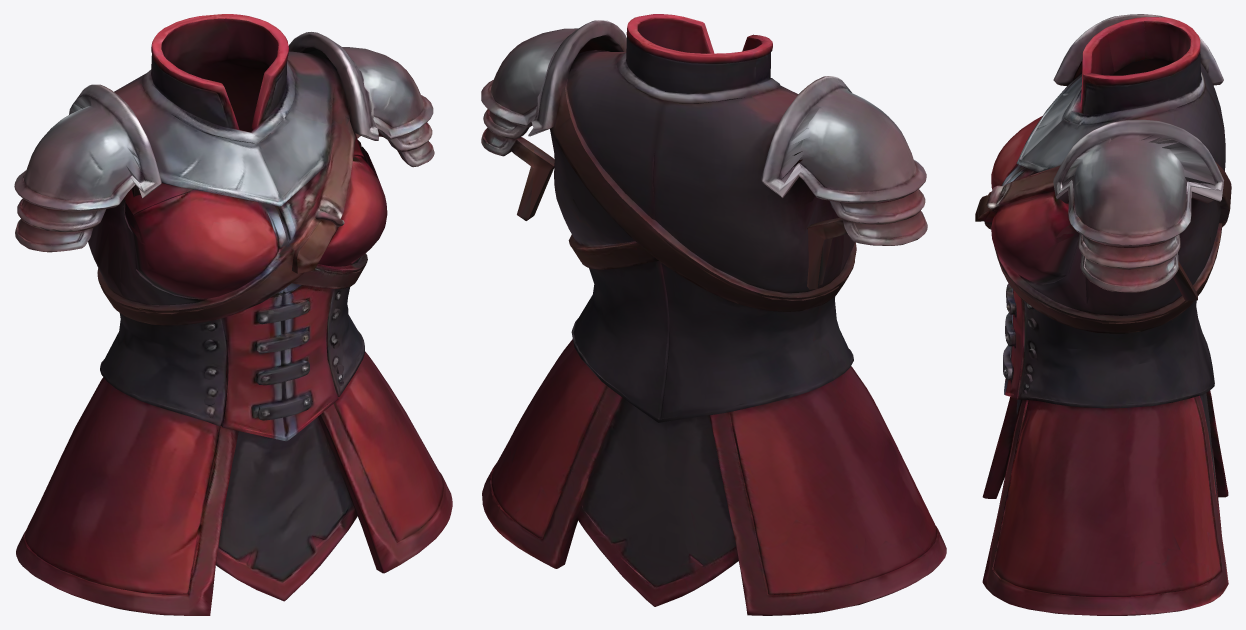
The model's file is warrior_f_cuirass.glb.
3 views of the same model, side by side, from view 1: azimuth 30°, elevation 25°; view 2: azimuth 150°, elevation 25°; view 3: azimuth 270°, elevation 25° (orthographic). The views are drawn at different scales.
Parts seen in each view (by area): view 1: model; view 2: model; view 3: model.
Part boxes in pixels (bbox=[...]): model: bbox=[14, 14, 452, 615]; model: bbox=[481, 14, 946, 615]; model: bbox=[975, 14, 1231, 615].
Size of the model in its own units: 0.68 by 0.8199 by 0.3698.
1 material, 1 textured.
